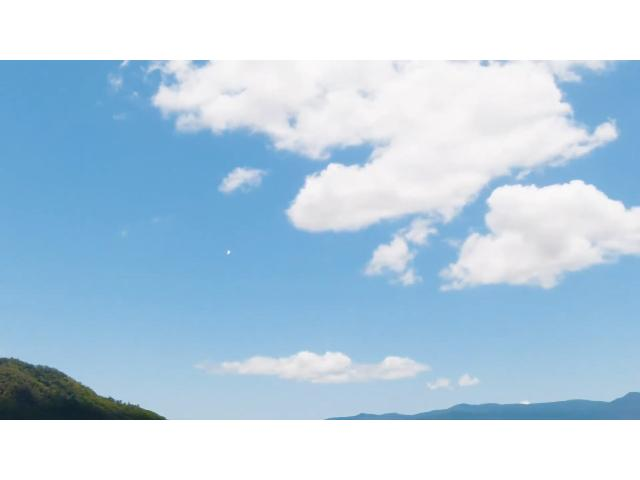Anti-Drone: (222, 244, 234, 260)
